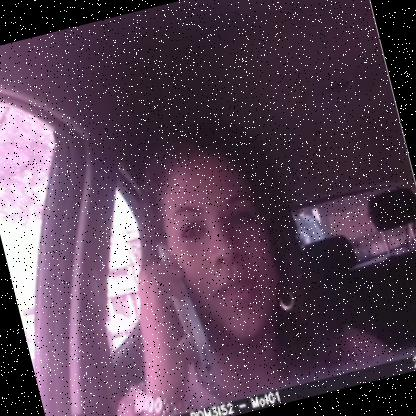phone: (143, 232, 228, 396)
